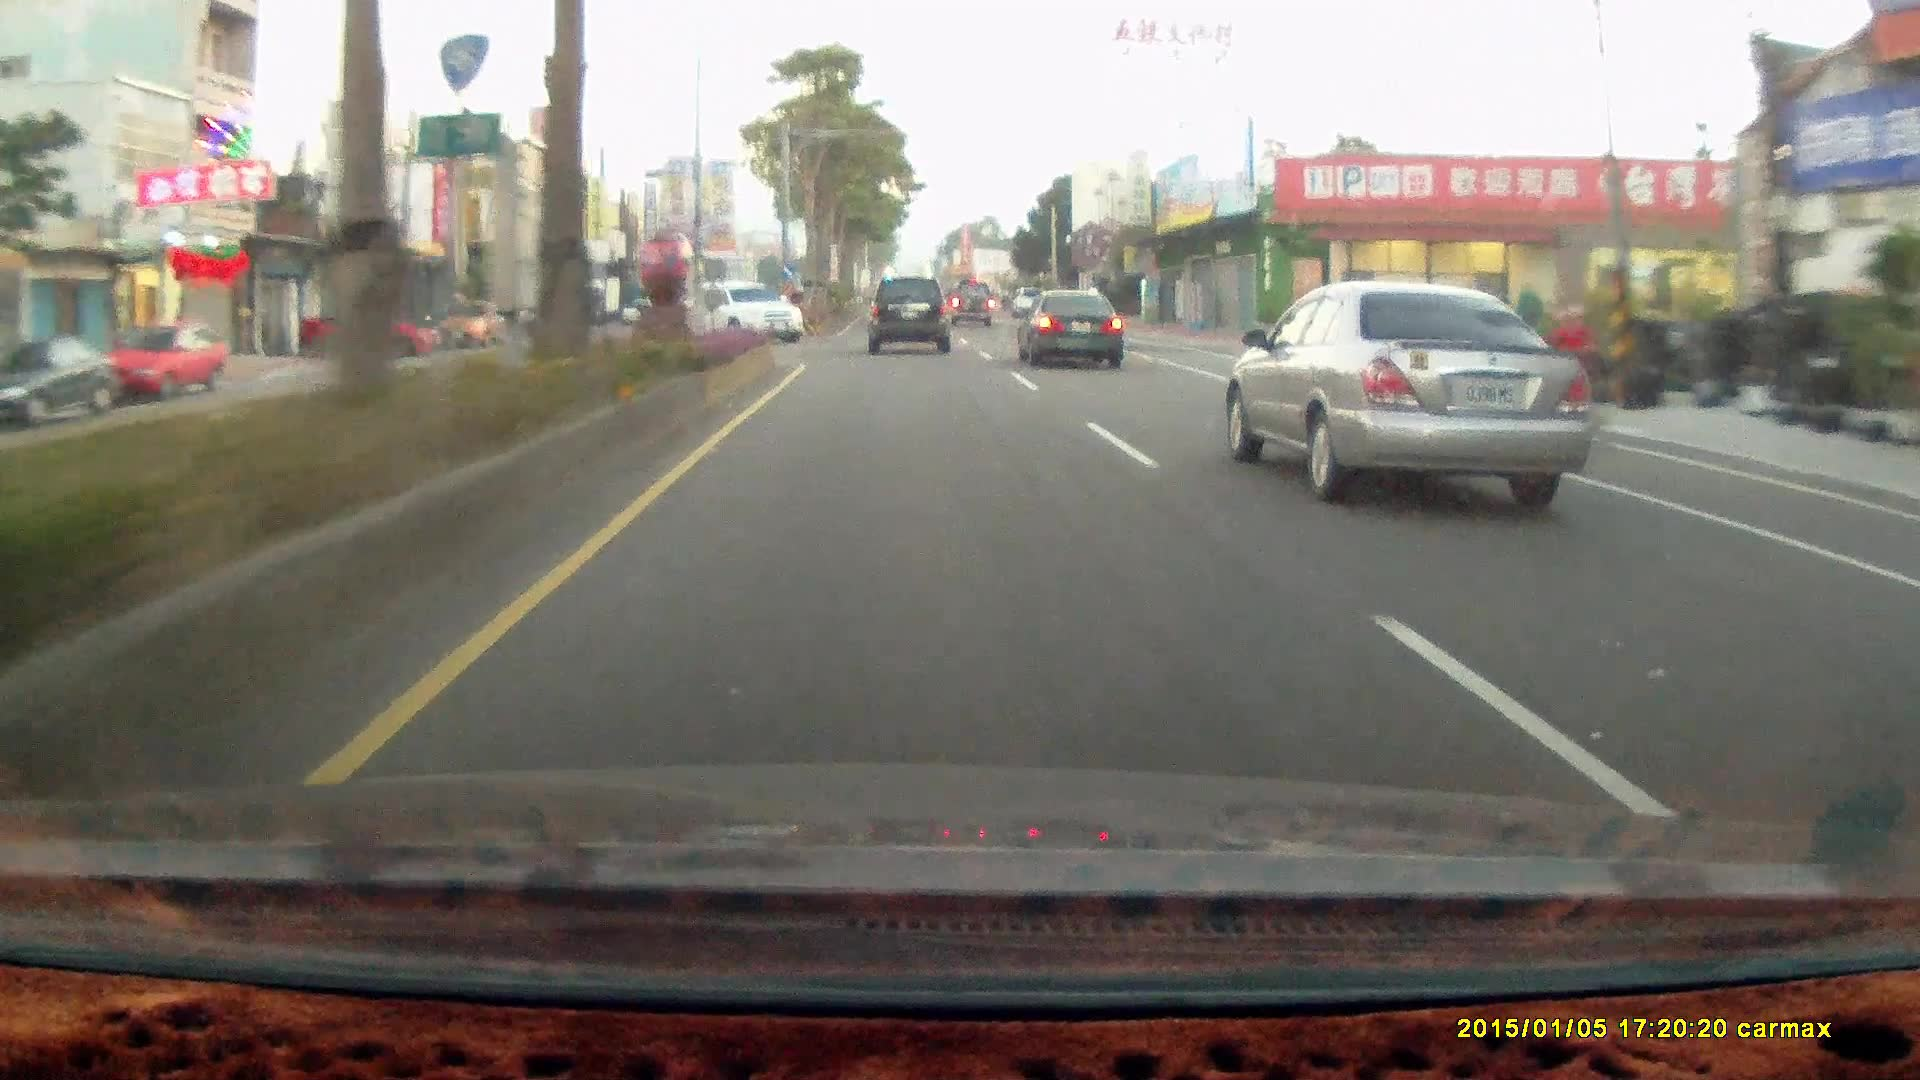pedestrian: (1542, 300, 1594, 432)
vehicle: (1238, 280, 1592, 503), (0, 337, 114, 431), (1013, 286, 1128, 371), (101, 323, 228, 400), (99, 324, 225, 401), (293, 305, 446, 363), (291, 301, 441, 359), (1013, 287, 1121, 366), (689, 281, 804, 346), (868, 276, 958, 354), (866, 276, 949, 354), (710, 281, 807, 347), (947, 280, 995, 329), (948, 283, 996, 333)
